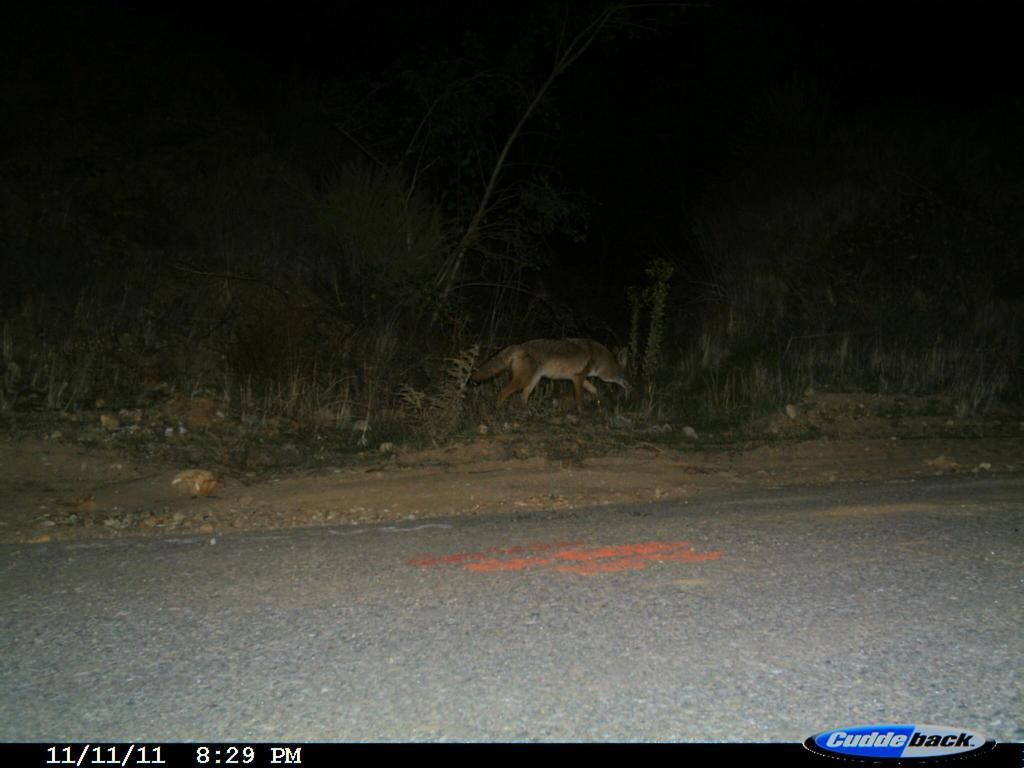coyote: (460, 326, 641, 420)
